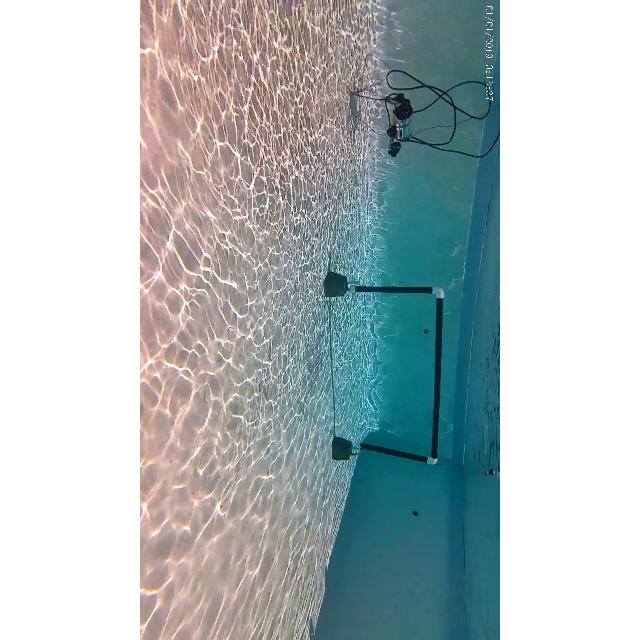prequal gate: (350, 285, 444, 465)
prequal gate leg l: (354, 278, 448, 302)
prequal gate leg r: (352, 441, 452, 472)
